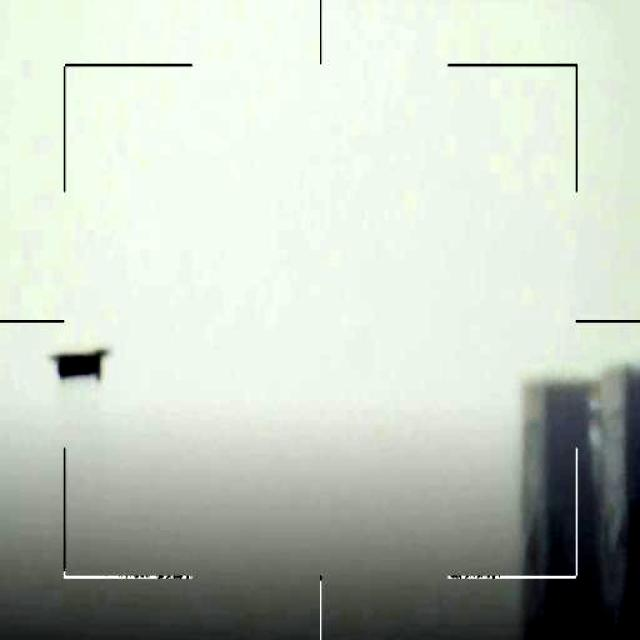bird: (52, 346, 108, 382)
